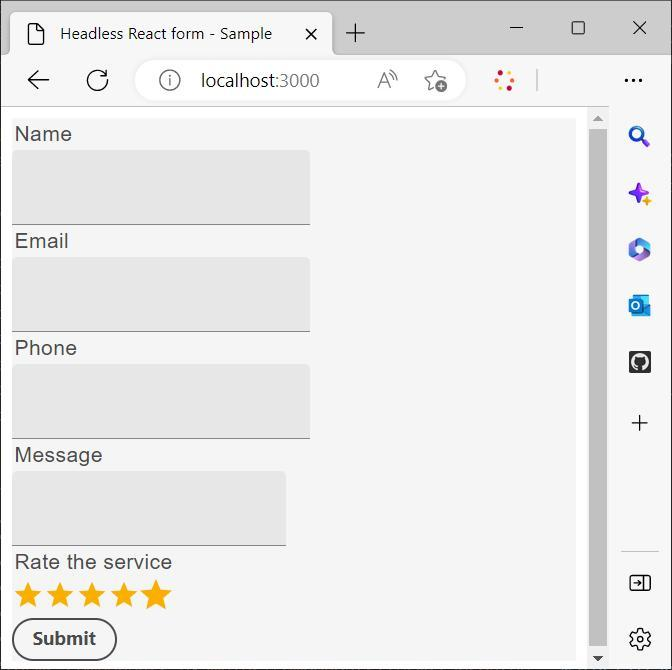button: (13, 619, 120, 664)
label: (10, 554, 179, 575), (16, 446, 108, 468), (11, 341, 84, 361), (14, 122, 79, 144), (13, 232, 71, 254)
